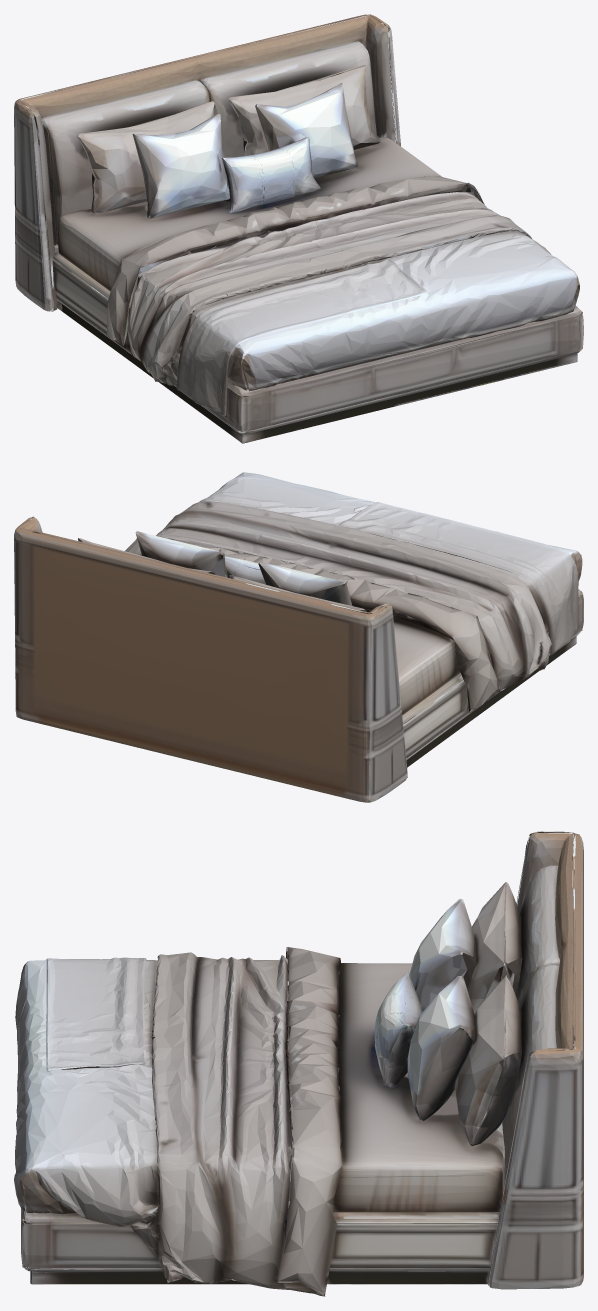
The model's file is edited_mesh.glb.
The picture shows the model from 3 angles, top to bottom: view 1: azimuth 30°, elevation 25°; view 2: azimuth 150°, elevation 25°; view 3: azimuth 270°, elevation 25°; orthographic projection. The views are drawn at different scales.
Parts seen in each view (by area): view 1: solid_001_wire; view 2: solid_001_wire; view 3: solid_001_wire.
Part boxes in pixels (x1,y1,x2,y2): solid_001_wire: (14,14,583,443); solid_001_wire: (14,472,583,802); solid_001_wire: (14,831,583,1296).
Bounding box in the file's own units: 2 × 0.9449 × 1.97.
1 material, 1 textured.
